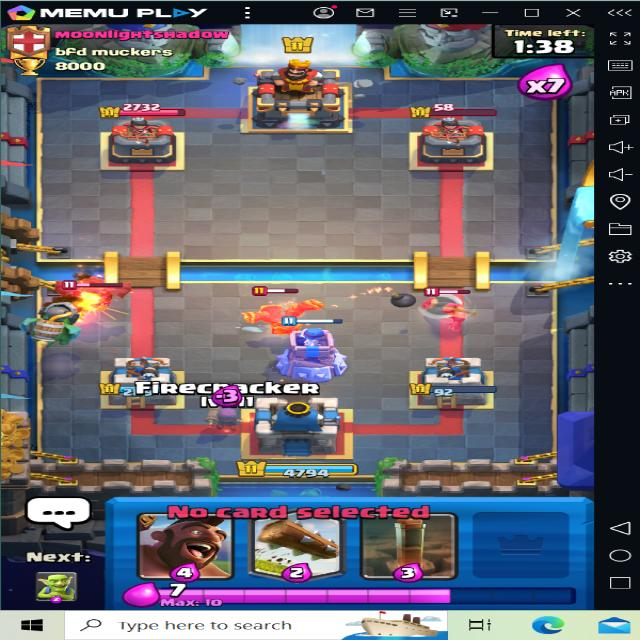executioner: (413, 292, 478, 330)
lava-hound: (47, 280, 139, 318)
phoenix: (226, 281, 338, 340)
